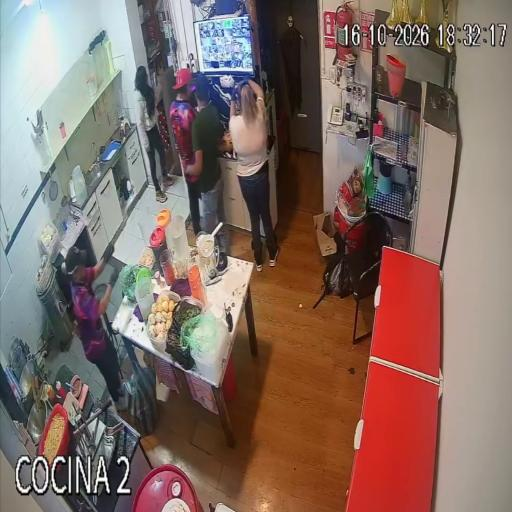Envase Ketchup: (56, 381, 65, 400)
Envase Llajua: (43, 383, 54, 402)
Jarra1: (150, 227, 167, 273)
Jarra2: (156, 209, 172, 247)
Jarra3: (171, 215, 189, 261)
Jarra4: (134, 278, 154, 321)
Persona1: (169, 92, 197, 173), (186, 177, 201, 232), (177, 70, 191, 94)
Persona2: (65, 244, 123, 406)
Persona3: (229, 80, 279, 272)
Persona4: (186, 74, 225, 233), (216, 226, 229, 252)
Persona5: (135, 66, 173, 201)
Taper: (40, 223, 61, 264)
Taper2: (181, 304, 230, 381)
Taper3: (166, 297, 203, 369)
Taper4: (146, 290, 180, 351)
